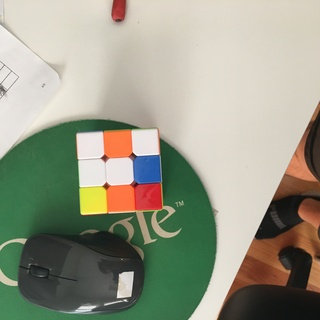face: (76, 128, 162, 213)
